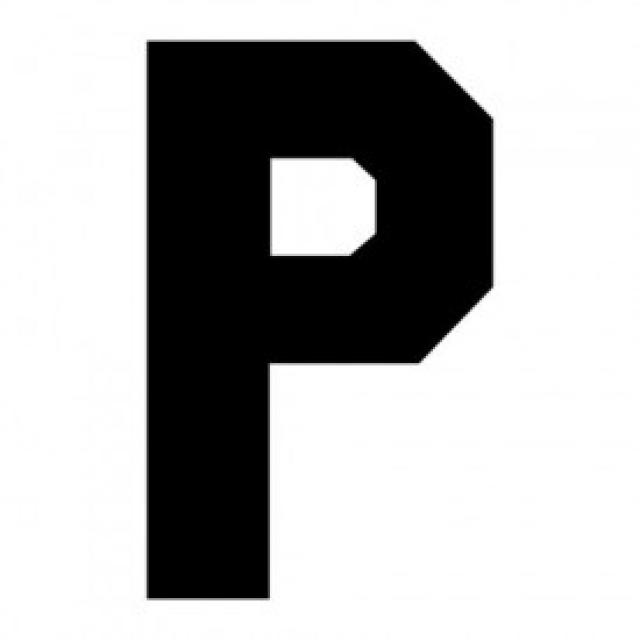P: (59, 0, 539, 610)
